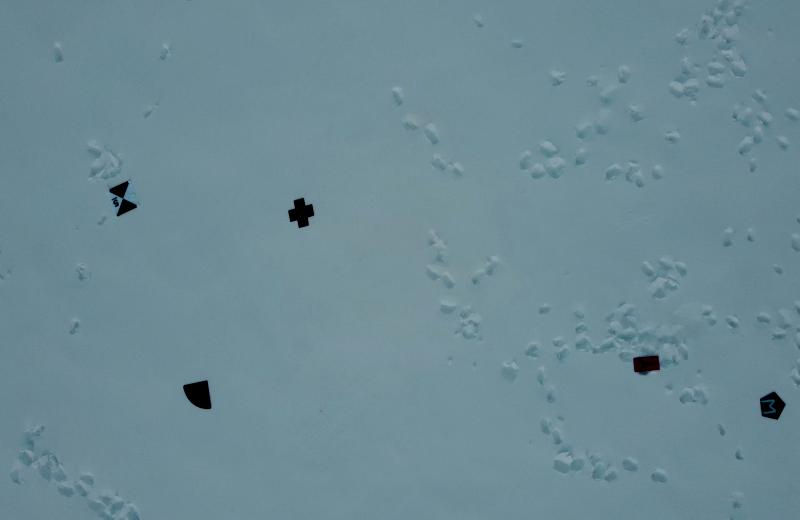Cross: (286, 193, 316, 229)
Pentagon: (757, 386, 788, 426)
Quarter Circle: (182, 378, 214, 415)
Rectangle: (628, 350, 664, 377)
